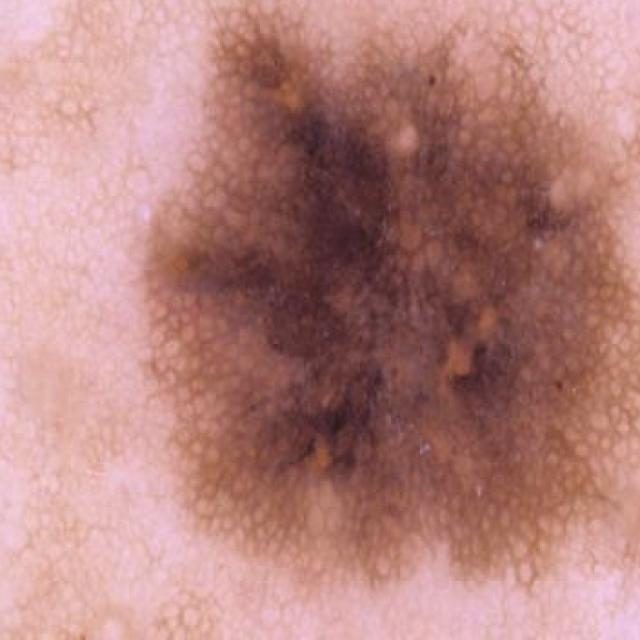NV: (62, 0, 640, 640)
